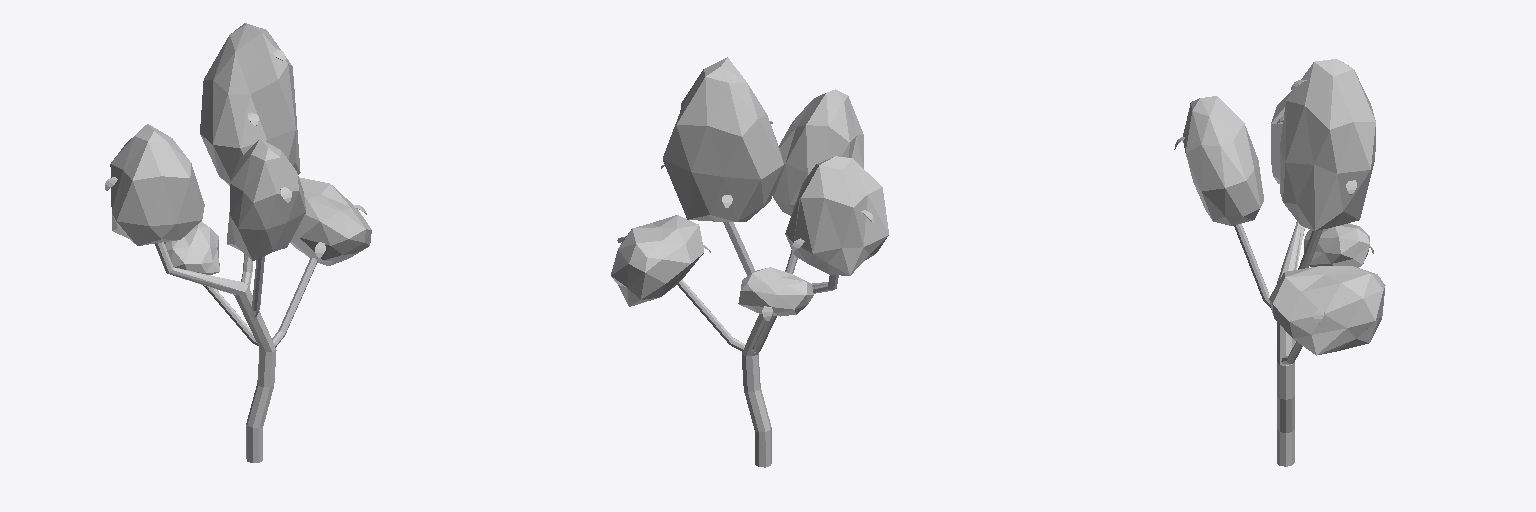
File: tree2.obj
The picture shows the model from 3 angles: view 1: azimuth 30°, elevation 25°; view 2: azimuth 150°, elevation 25°; view 3: azimuth 270°, elevation 25°; orthographic projection.
Parts seen in each view (by area): view 1: Tree_3_Tree_3_Cylinder.001; view 2: Tree_3_Tree_3_Cylinder.001; view 3: Tree_3_Tree_3_Cylinder.001.
Boxes of the visible parts, x1,y1,x2,y2 form: Tree_3_Tree_3_Cylinder.001: [105, 23, 371, 462]; Tree_3_Tree_3_Cylinder.001: [611, 57, 888, 467]; Tree_3_Tree_3_Cylinder.001: [1174, 59, 1385, 466].
Size of the model in its own units: 3.66 by 5.53 by 2.57.